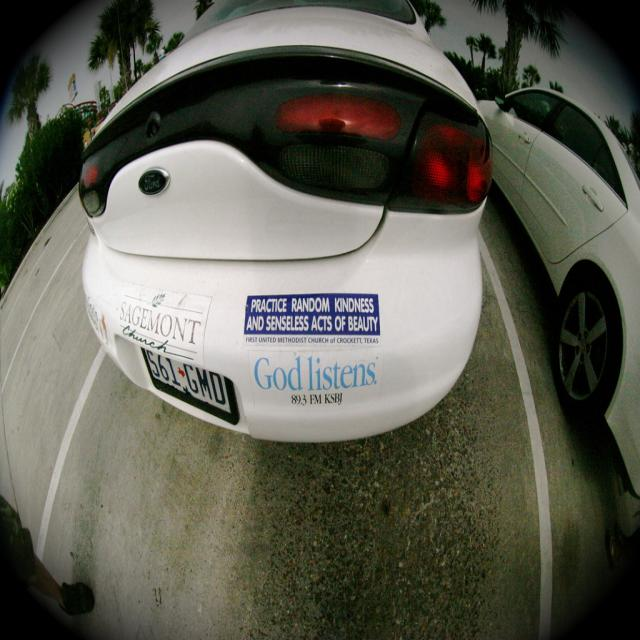car: (57, 27, 513, 451), (474, 84, 639, 501)
